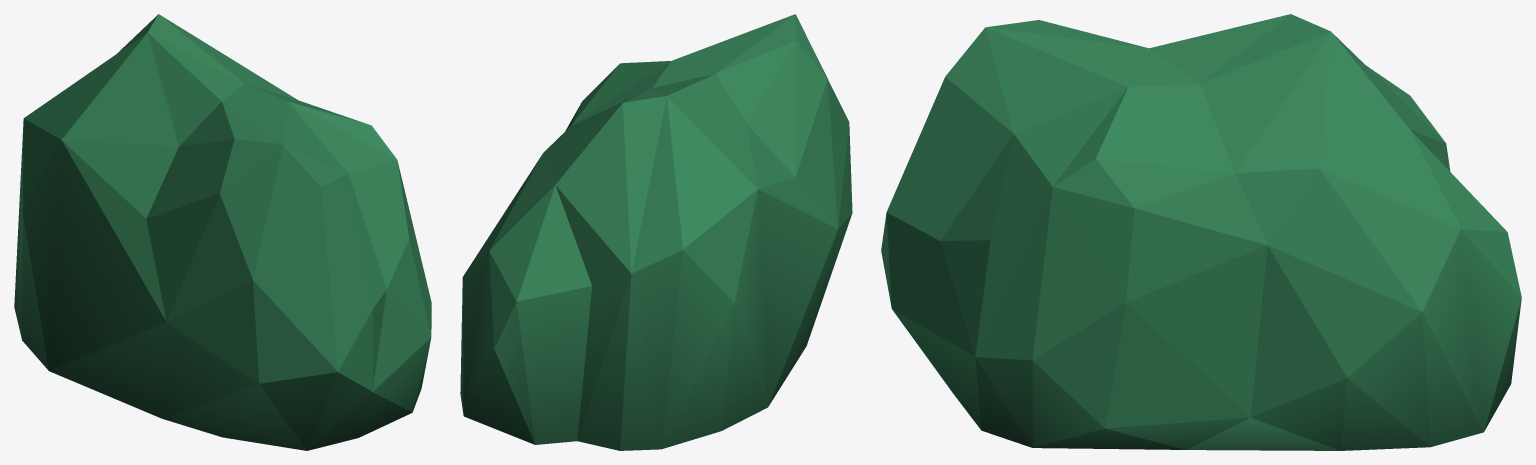
Rendered from bush_wall_3.fbx.
3 views of the same model, side by side, from view 1: azimuth 30°, elevation 25°; view 2: azimuth 150°, elevation 25°; view 3: azimuth 270°, elevation 25° (orthographic). The views are drawn at different scales.
Parts seen in each view (by area): view 1: bush_wall_3; view 2: bush_wall_3; view 3: bush_wall_3.
Part boxes in pixels (x1=…): bush_wall_3: x1=14, y1=14, x2=431, y2=450; bush_wall_3: x1=460, y1=14, x2=852, y2=450; bush_wall_3: x1=881, y1=14, x2=1521, y2=450.
Bounding box in the file's own units: 1.19 × 2.1 × 1.26.
